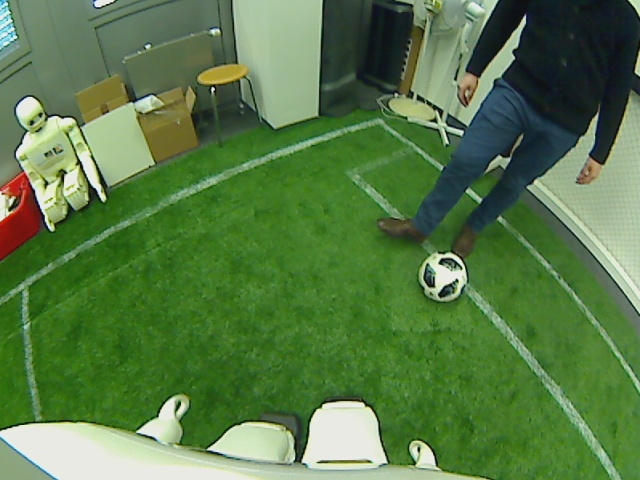ball: (416, 249, 469, 302)
